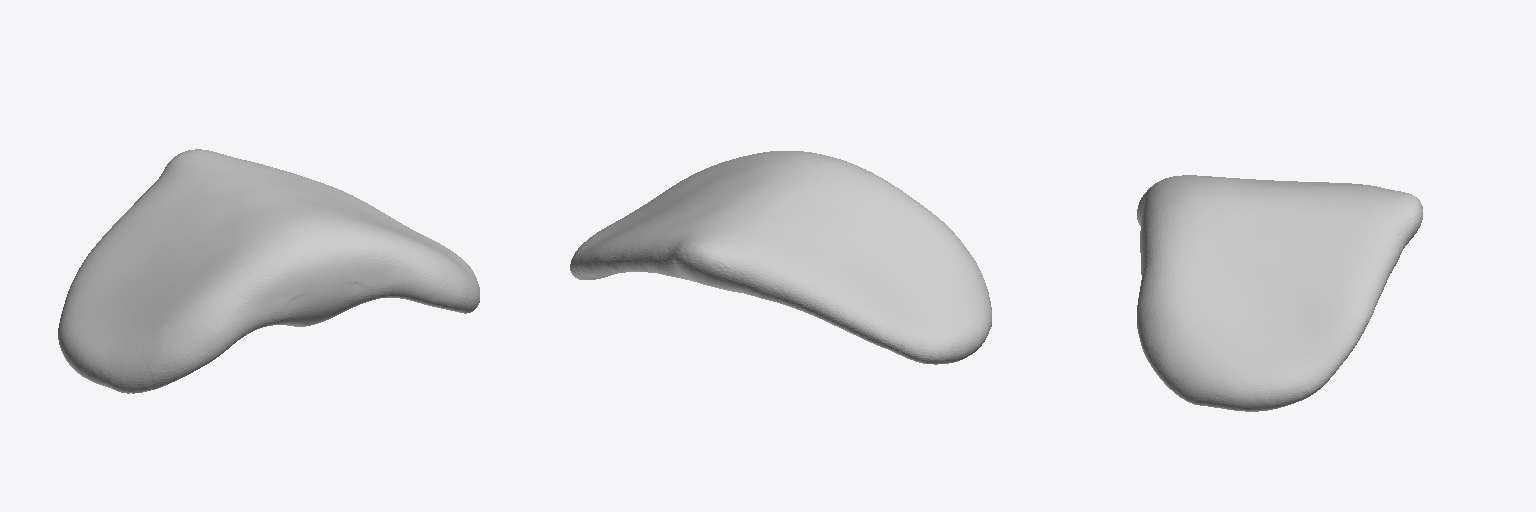
Rendered from shell_end.obj.
3 views of the same model, side by side, from view 1: azimuth 30°, elevation 25°; view 2: azimuth 150°, elevation 25°; view 3: azimuth 270°, elevation 25° (orthographic).
Visible parts, largest first — view 1: Group6084; view 2: Group6084; view 3: Group6084.
Boxes of the visible parts, <box> form: Group6084: <box>58,149,479,393</box>; Group6084: <box>570,151,991,364</box>; Group6084: <box>1137,175,1422,411</box>.
Size of the model in its own units: 0.3622 by 0.1173 by 0.2307.